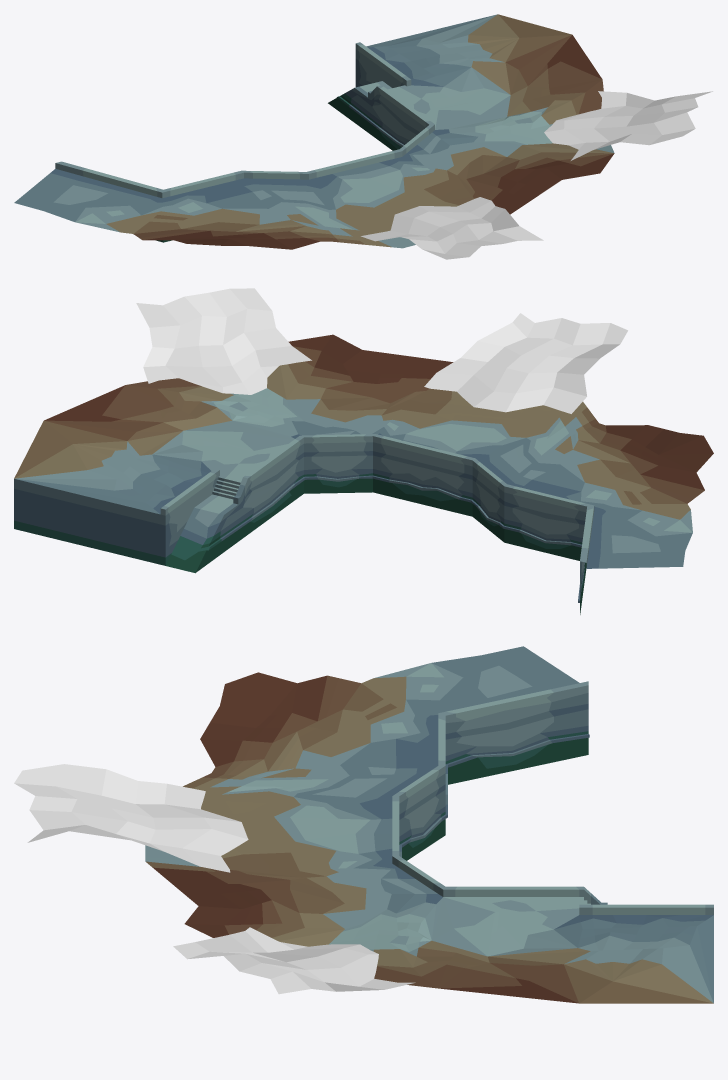
Rendered from harbor.fbx.
3 renders of one model, top to bottom at view 1: azimuth 30°, elevation 25°; view 2: azimuth 150°, elevation 25°; view 3: azimuth 270°, elevation 25°, orthographic. The views are drawn at different scales.
Parts seen in each view (by area): view 1: harbor, path2, path1; view 2: harbor, path2, path1; view 3: harbor, path1, path2.
Boxes of the visible parts, x1,y1,x2,y2 form: harbor: (14, 14, 614, 249); path2: (544, 91, 712, 160); path1: (361, 197, 543, 259); harbor: (14, 334, 713, 614); path2: (136, 288, 311, 394); path1: (424, 313, 627, 413); harbor: (145, 646, 713, 1003); path1: (14, 764, 248, 872); path2: (173, 927, 415, 994).
Bounding box in the file's own units: 4876 × 651 × 3700.
Materials: 1 (1 with a texture image).
